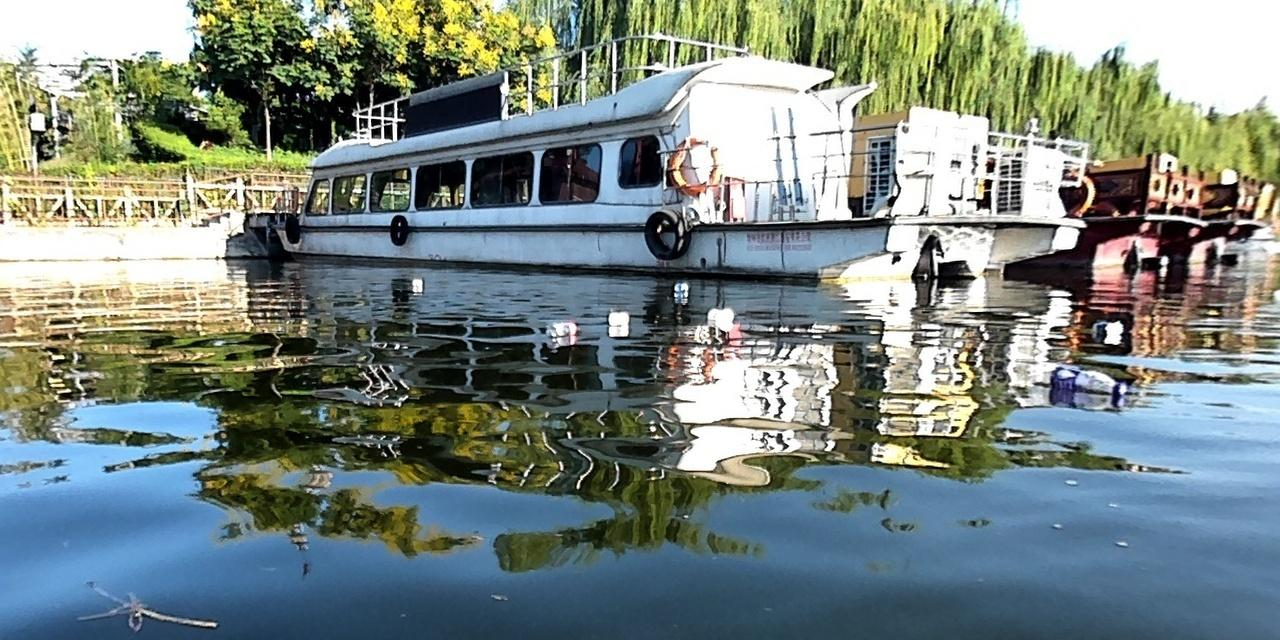bottle: (1028, 357, 1128, 399), (545, 317, 586, 341), (1086, 315, 1120, 335), (704, 303, 737, 322), (604, 309, 631, 328), (670, 280, 692, 293)
